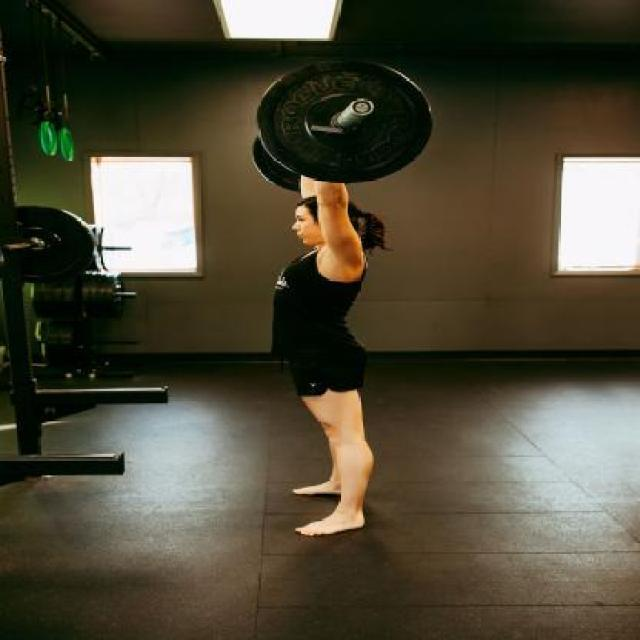barbell: (245, 48, 445, 188)
